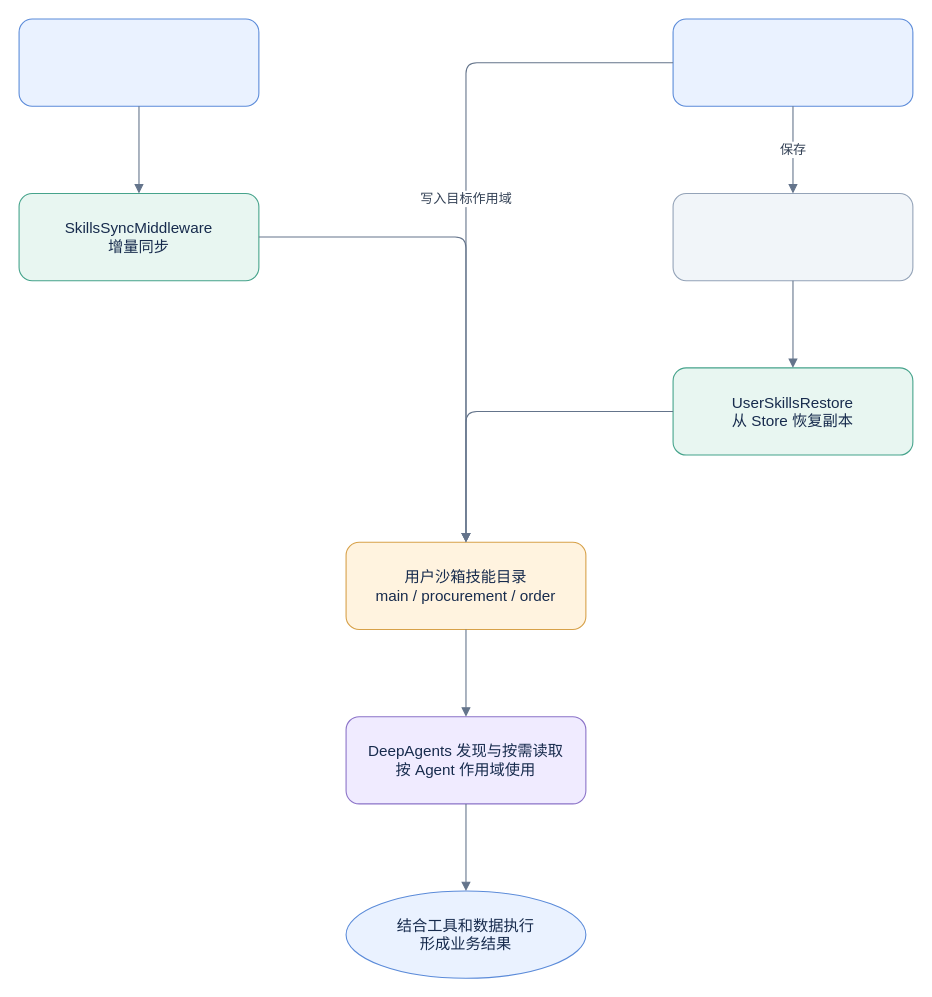
The diagram is 932 pixels wide and 997 high, and some of its shapes have lost their labels. Each missing label, with the box of its shape:
共享技能 Store namespace = skills: (672, 192, 913, 281)
本地预置技能 SKILL.md / 脚本 / 参考: (18, 18, 259, 106)
运行期技能分配 assign_skill: (672, 18, 913, 106)
